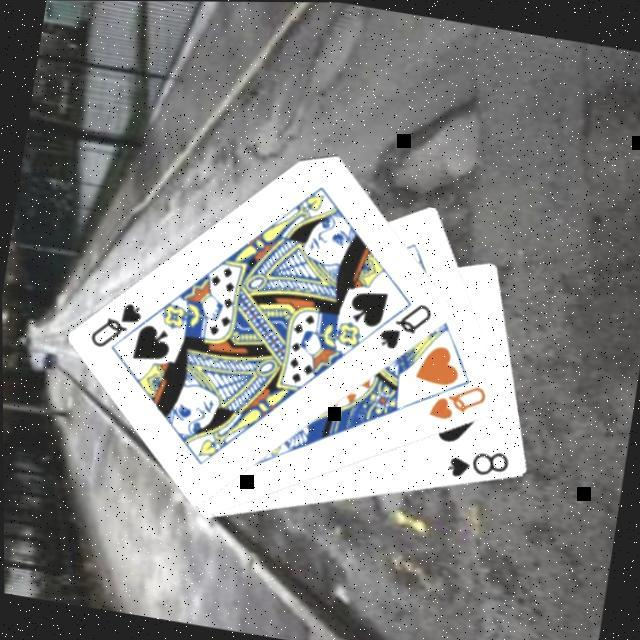8S: (440, 438, 513, 487)
QH: (424, 372, 491, 427)
QS: (84, 291, 148, 355), (373, 292, 436, 356)
